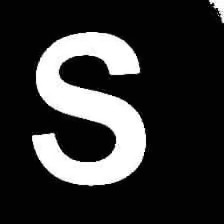LTR_S: (19, 24, 152, 190)
